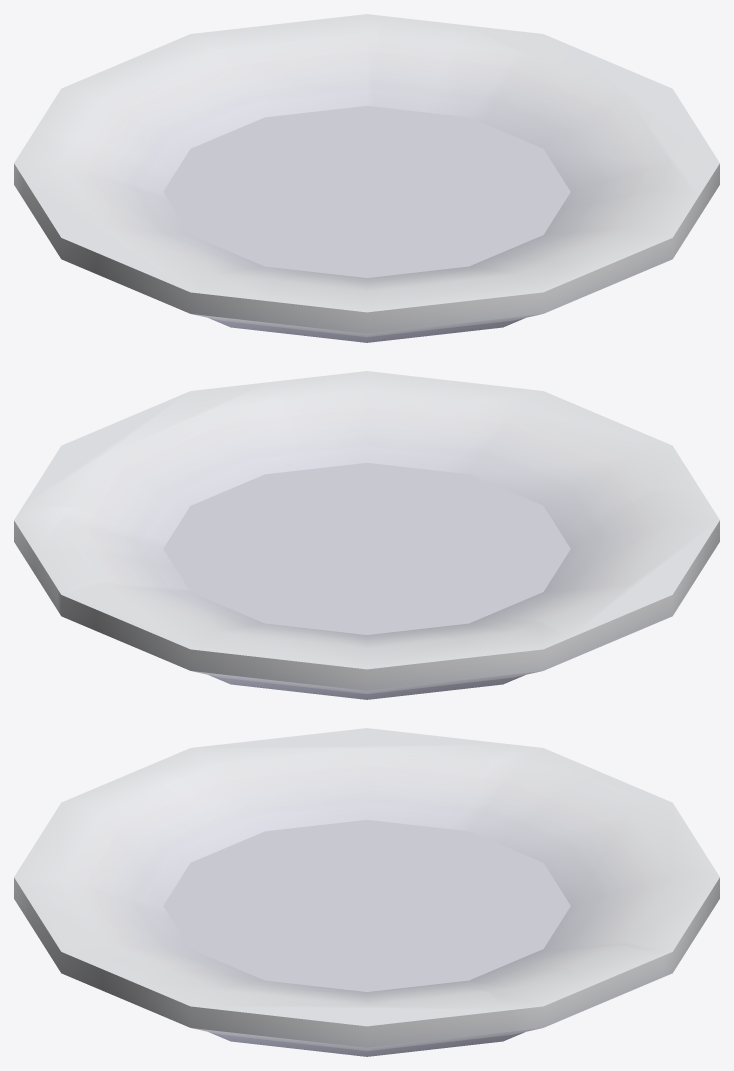
Rendered from kenney-food-plate-broken.glb.
3 renders of one model, top to bottom at view 1: azimuth 30°, elevation 25°; view 2: azimuth 150°, elevation 25°; view 3: azimuth 270°, elevation 25°, orthographic.
Visible parts, largest first — view 1: piece; view 2: piece; view 3: piece.
Boxes of the visible parts, left/top/right/bottom form: piece: left=14, top=14, right=719, bottom=342; piece: left=14, top=371, right=719, bottom=699; piece: left=14, top=728, right=719, bottom=1056.
Size of the model in its own units: 0.8918 by 0.09 by 0.8918.
Materials: 1 (1 with a texture image).
